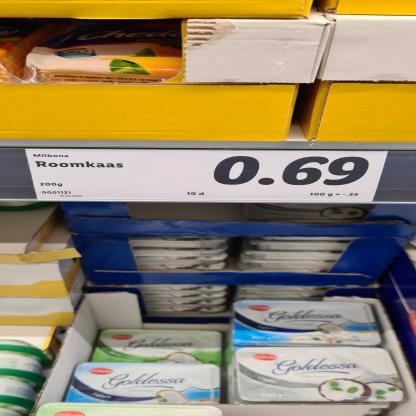prtg: (26, 150, 390, 204)
